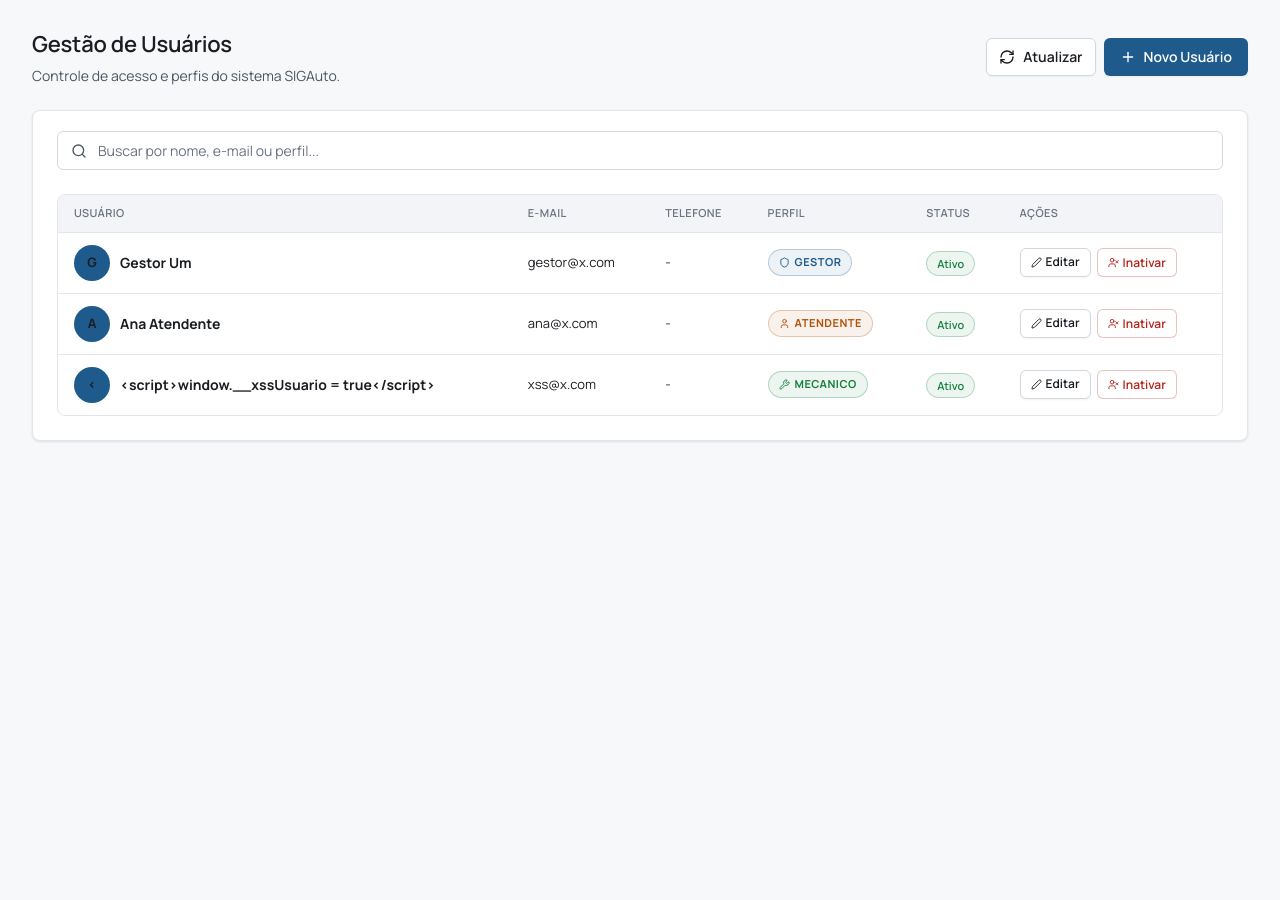
Test: Usuarios — validação do formulário na tela › deve_barrar_senha_com 7 caracteres_sem_chamar_a_api
Check: the text "Gestor Um" is shown, box [120,252,192,273]
Click the button "Novo Usuário" at (1176, 57), box [1104,38,1248,76]
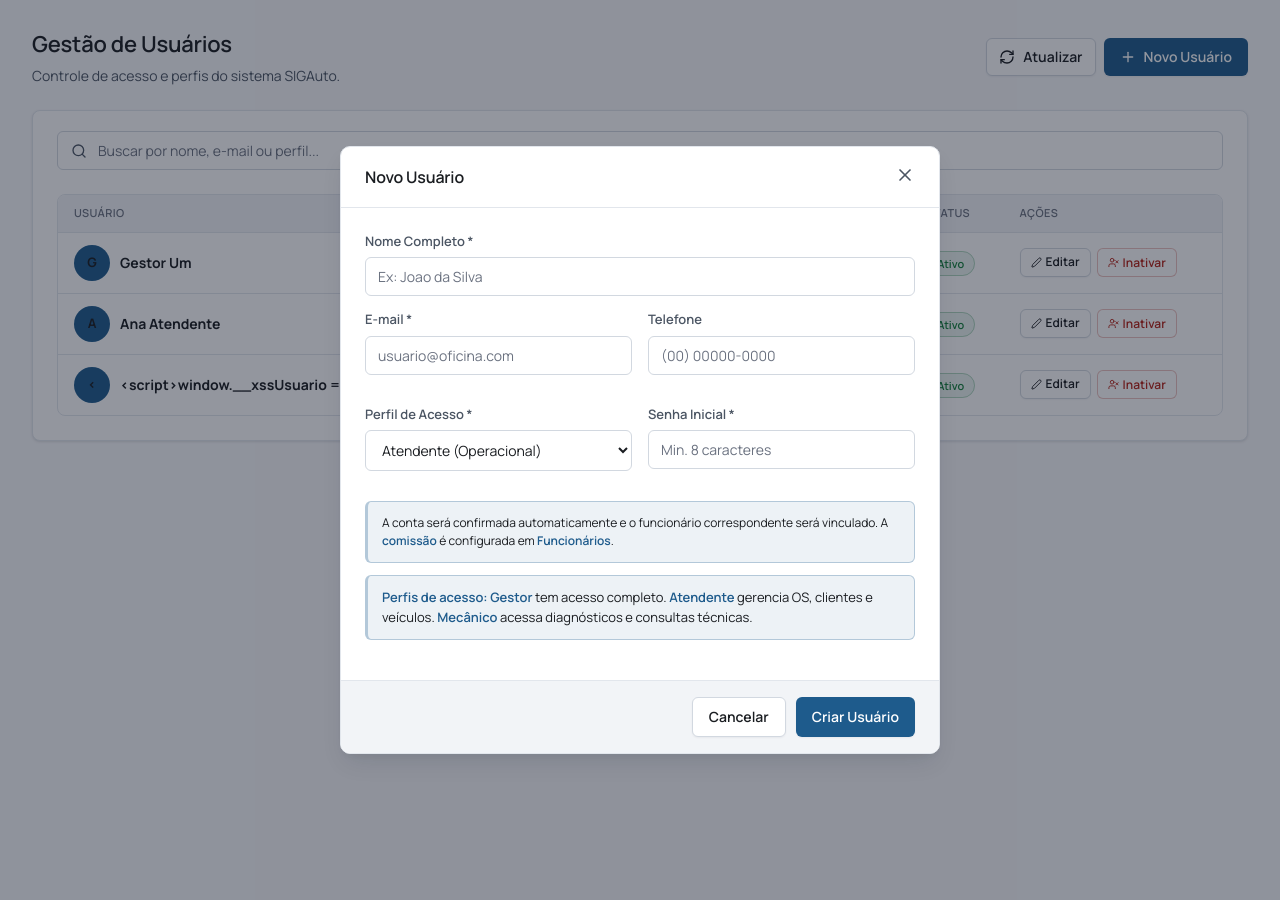
Type "Novo Usuario" into the field with placeholder "Ex: Joao da Silva" at (640, 277), box [365,258,915,296]
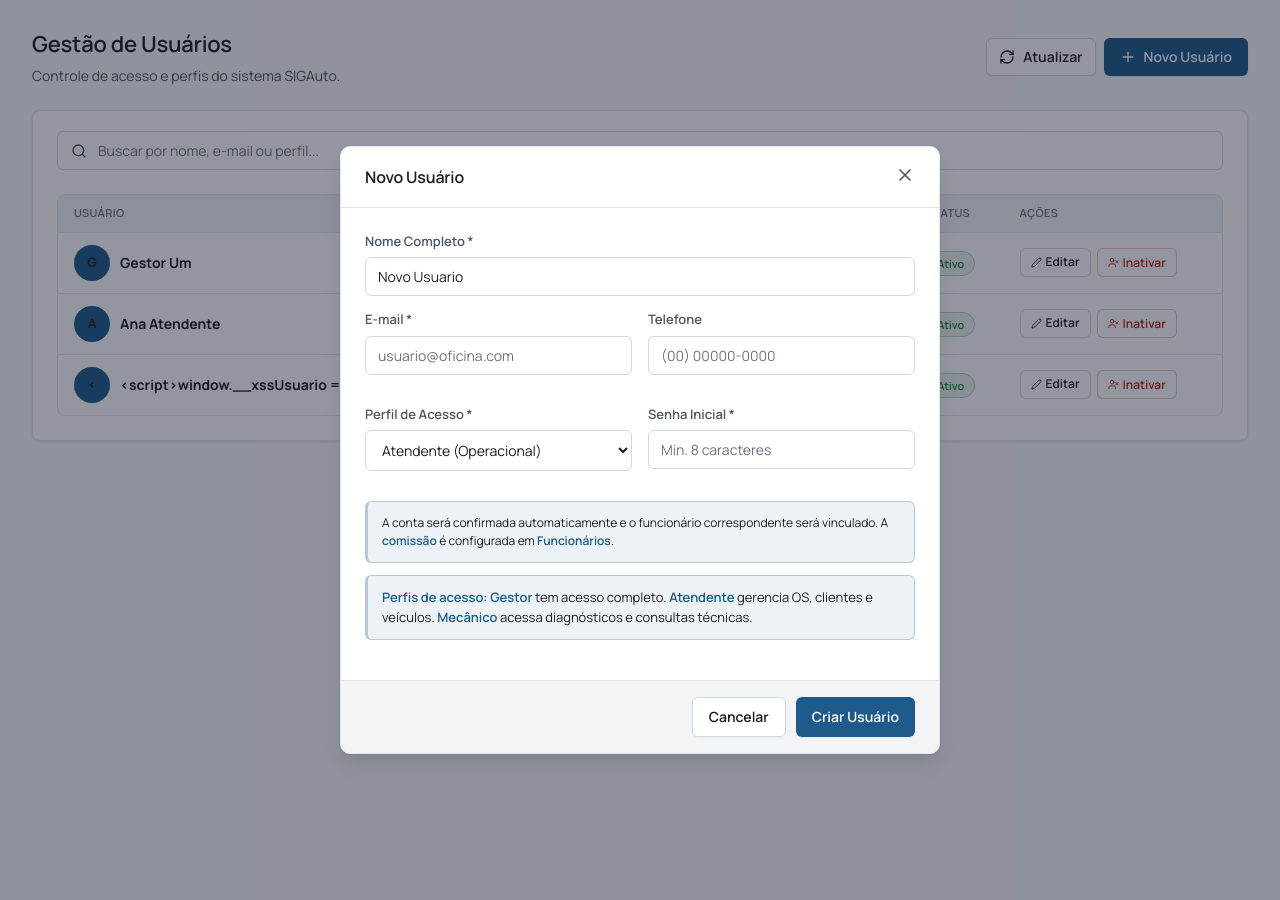
Type "novo@oficina.com" into the field with placeholder "usuario@oficina.com" at (498, 356), box [365,336,632,375]
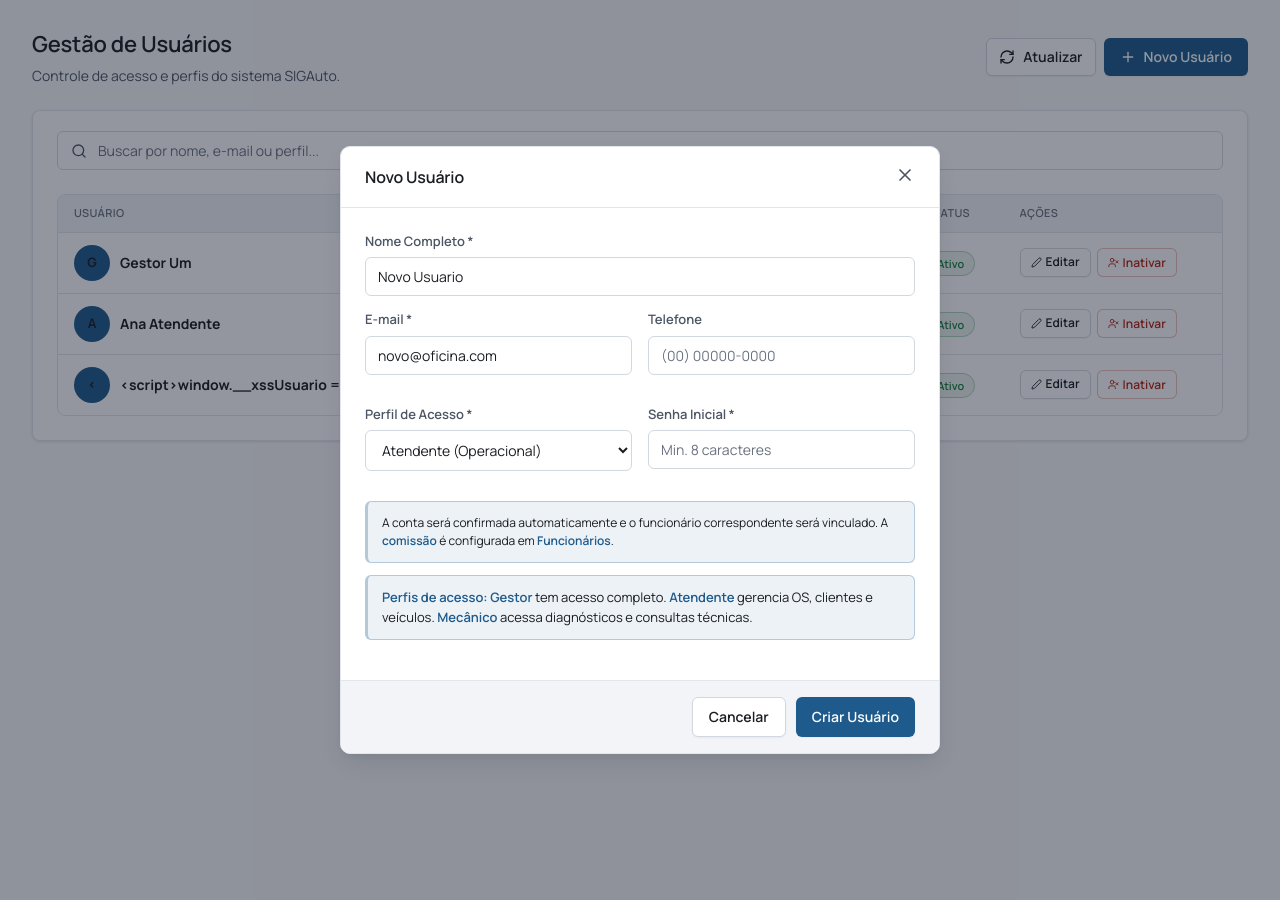
Type "Senha12" into the password field with placeholder "Min. 8 caracteres" at (782, 450), box [648,430,915,470]
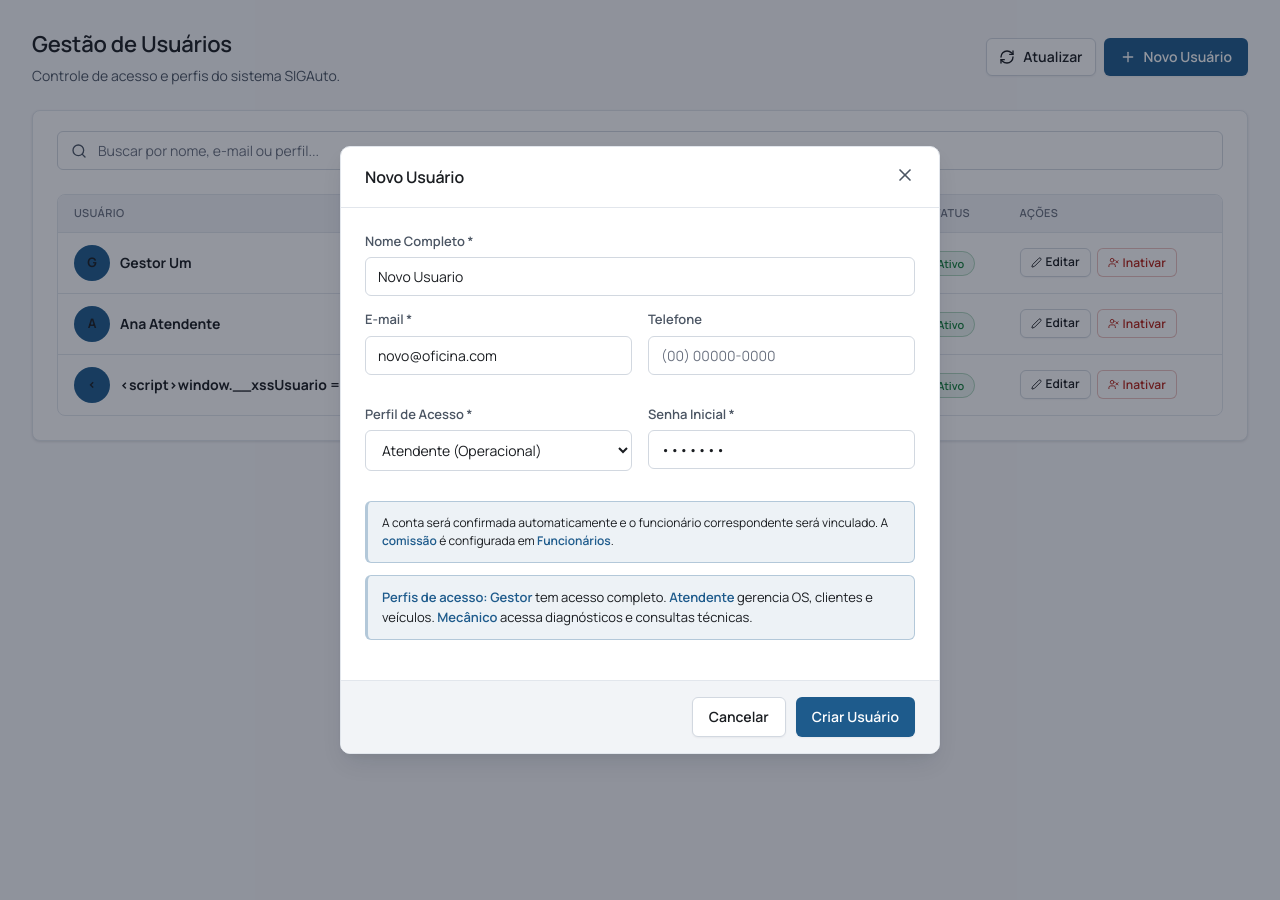
Submit the form named "Criar Usuário", box [341,208,939,753]
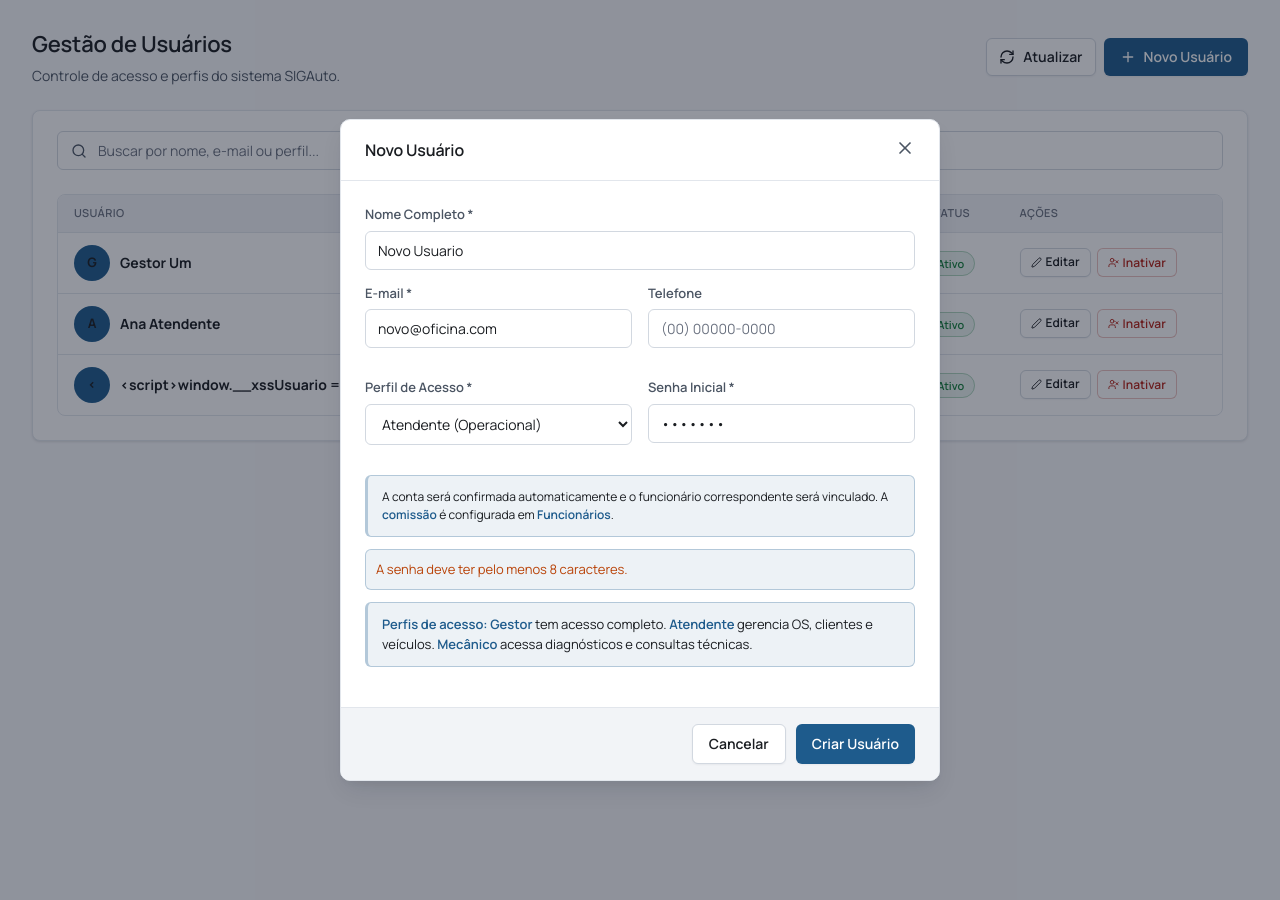
Check: the text "A senha deve ter pelo menos 8 caracteres." is shown, box [365,549,915,590]
